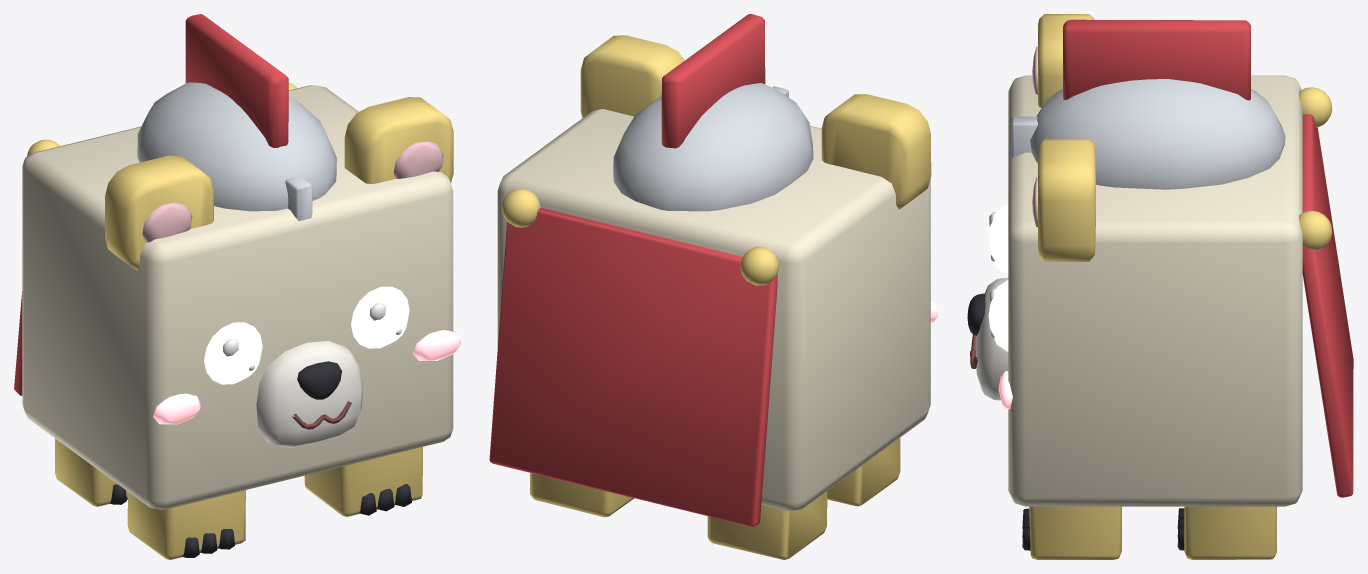
File: Pet_Titanen.fbx
3 renders of one model, left to right at view 1: azimuth 30°, elevation 25°; view 2: azimuth 150°, elevation 25°; view 3: azimuth 270°, elevation 25°, orthographic. The views are drawn at different scales.
Visible parts, largest first — view 1: Pet_Titanen_body, Pet_Titanen_acc_helmet, Pet_Titanen_ears, Pet_Titanen_feet, Pet_Titanen_muzzle, Pet_Titanen_acc_plume, Pet_Titanen_eyes, Pet_Titanen, Pet_Titanen_toes, Pet_Titanen_cute_innerear_-1, Pet_Titanen_nose, Pet_Titanen_cute_blush_-1 (+2 smaller); view 2: Pet_Titanen_acc_cape, Pet_Titanen_body, Pet_Titanen_acc_helmet, Pet_Titanen_ears, Pet_Titanen_feet, Pet_Titanen_acc_plume, Pet_Titanen_acc_clasp-1, Pet_Titanen_acc_clasp1; view 3: Pet_Titanen_body, Pet_Titanen_acc_helmet, Pet_Titanen_acc_plume, Pet_Titanen_acc_cape, Pet_Titanen_feet, Pet_Titanen_ears, Pet_Titanen_eyes, Pet_Titanen_muzzle, Pet_Titanen_acc_clasp1, Pet_Titanen_acc_clasp-1, Pet_Titanen_acc_nose_guard, Pet_Titanen (+2 smaller).
Boxes of the visible parts, left/top/right/bottom form: Pet_Titanen_body: left=22, top=85, right=453, bottom=509; Pet_Titanen_acc_helmet: left=137, top=82, right=336, bottom=211; Pet_Titanen_ears: left=105, top=97, right=453, bottom=270; Pet_Titanen_feet: left=55, top=438, right=422, bottom=559; Pet_Titanen_muzzle: left=256, top=340, right=362, bottom=447; Pet_Titanen_acc_plume: left=185, top=14, right=288, bottom=147; Pet_Titanen_eyes: left=204, top=286, right=409, bottom=384; Pet_Titanen: left=370, top=141, right=460, bottom=360; Pet_Titanen_toes: left=109, top=484, right=411, bottom=557; Pet_Titanen_cute_innerear_-1: left=142, top=202, right=192, bottom=242; Pet_Titanen_nose: left=297, top=361, right=342, bottom=399; Pet_Titanen_cute_blush_-1: left=153, top=393, right=201, bottom=424; Pet_Titanen_acc_cape: left=489, top=207, right=777, bottom=526; Pet_Titanen_body: left=497, top=109, right=930, bottom=510; Pet_Titanen_acc_helmet: left=613, top=83, right=813, bottom=211; Pet_Titanen_ears: left=580, top=35, right=931, bottom=209; Pet_Titanen_feet: left=530, top=438, right=900, bottom=559; Pet_Titanen_acc_plume: left=661, top=14, right=765, bottom=148; Pet_Titanen_acc_clasp-1: left=740, top=246, right=778, bottom=285; Pet_Titanen_acc_clasp1: left=502, top=188, right=540, bottom=227; Pet_Titanen_body: left=1008, top=75, right=1302, bottom=506; Pet_Titanen_acc_helmet: left=1030, top=79, right=1285, bottom=189; Pet_Titanen_acc_plume: left=1063, top=19, right=1250, bottom=100; Pet_Titanen_acc_cape: left=1302, top=114, right=1353, bottom=497; Pet_Titanen_feet: left=1029, top=506, right=1276, bottom=559; Pet_Titanen_ears: left=1038, top=14, right=1095, bottom=261; Pet_Titanen_eyes: left=988, top=203, right=1008, bottom=351; Pet_Titanen_muzzle: left=975, top=278, right=1008, bottom=400; Pet_Titanen_acc_clasp1: left=1299, top=210, right=1332, bottom=251; Pet_Titanen_acc_clasp-1: left=1299, top=87, right=1332, bottom=127; Pet_Titanen_acc_nose_guard: left=1012, top=116, right=1037, bottom=158; Pet_Titanen: left=989, top=177, right=1037, bottom=409.
Size of the model in its own units: 2.35 by 3.04 by 2.25.
